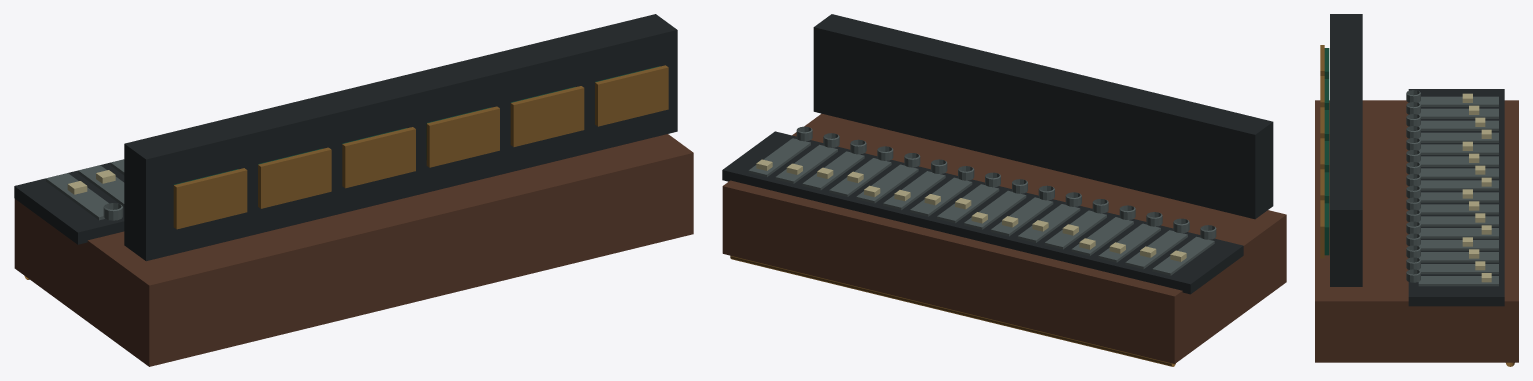
File: console-master.obj
3 views of the same model, side by side, from view 1: azimuth 30°, elevation 25°; view 2: azimuth 150°, elevation 25°; view 3: azimuth 270°, elevation 25° (orthographic). The views are drawn at different scales.
Visible parts, largest first — view 1: Oak_console_core, Rear_meter_bridge, Sloped_control_rail, VU_bezel_0, VU_bezel_4, VU_bezel_1, VU_bezel_3, VU_bezel_5, VU_bezel_2, Channel_strip_0, Channel_strip_1; view 2: Oak_console_core, Rear_meter_bridge, Sloped_control_rail, Console_lower_rail, Channel_strip_0, Channel_strip_5, Channel_strip_15, Channel_strip_3, Channel_strip_6, Channel_strip_9, Channel_strip_12, Channel_strip_7 (+8 smaller); view 3: Oak_console_core, Rear_meter_bridge, Sloped_control_rail, Channel_strip_15, Channel_strip_6, Channel_strip_7, Channel_strip_10, Channel_strip_11, Channel_strip_8, Channel_strip_9, Channel_strip_12, Channel_strip_13 (+26 smaller).
Boxes of the visible parts, <box> form: Oak_console_core: <box>14,134,693,366</box>; Rear_meter_bridge: <box>124,14,677,261</box>; Sloped_control_rail: <box>14,161,124,244</box>; VU_bezel_0: <box>173,168,247,229</box>; VU_bezel_4: <box>510,86,584,146</box>; VU_bezel_1: <box>258,147,331,208</box>; VU_bezel_3: <box>426,106,499,167</box>; VU_bezel_5: <box>595,65,668,126</box>; VU_bezel_2: <box>342,127,415,188</box>; Channel_strip_0: <box>46,173,108,220</box>; Channel_strip_1: <box>78,165,124,206</box>; Oak_console_core: <box>722,113,1286,363</box>; Rear_meter_bridge: <box>813,14,1273,219</box>; Sloped_control_rail: <box>722,131,1243,294</box>; Console_lower_rail: <box>730,255,1175,366</box>; Channel_strip_0: <box>1152,236,1214,275</box>; Channel_strip_5: <box>1017,204,1080,242</box>; Channel_strip_15: <box>748,138,810,177</box>; Channel_strip_3: <box>1071,217,1133,256</box>; Channel_strip_6: <box>990,197,1053,236</box>; Channel_strip_9: <box>910,177,972,216</box>; Channel_strip_12: <box>829,158,891,196</box>; Channel_strip_7: <box>964,190,1026,229</box>; Oak_console_core: <box>1315,100,1518,362</box>; Rear_meter_bridge: <box>1330,14,1362,286</box>; Sloped_control_rail: <box>1408,89,1504,306</box>; Channel_strip_15: <box>1418,276,1498,286</box>; Channel_strip_6: <box>1418,168,1498,178</box>; Channel_strip_7: <box>1418,180,1498,190</box>; Channel_strip_10: <box>1418,216,1498,226</box>; Channel_strip_11: <box>1418,228,1498,238</box>; Channel_strip_8: <box>1418,192,1498,202</box>; Channel_strip_9: <box>1418,204,1498,214</box>; Channel_strip_12: <box>1418,240,1498,250</box>; Channel_strip_13: <box>1419,252,1498,262</box>.
Bounding box in the file's own units: 8.7 × 3.06 × 3.6.
